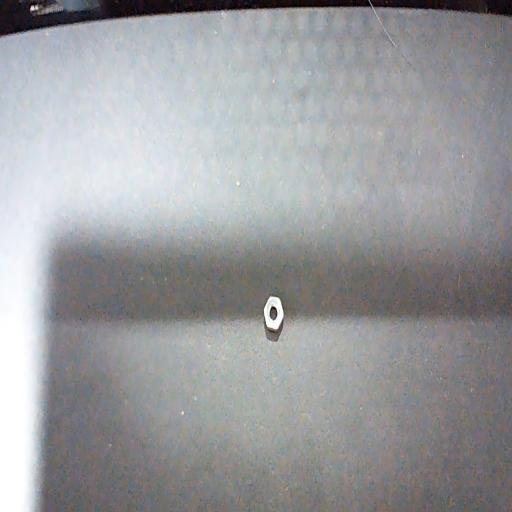nut: (263, 296, 284, 333)
